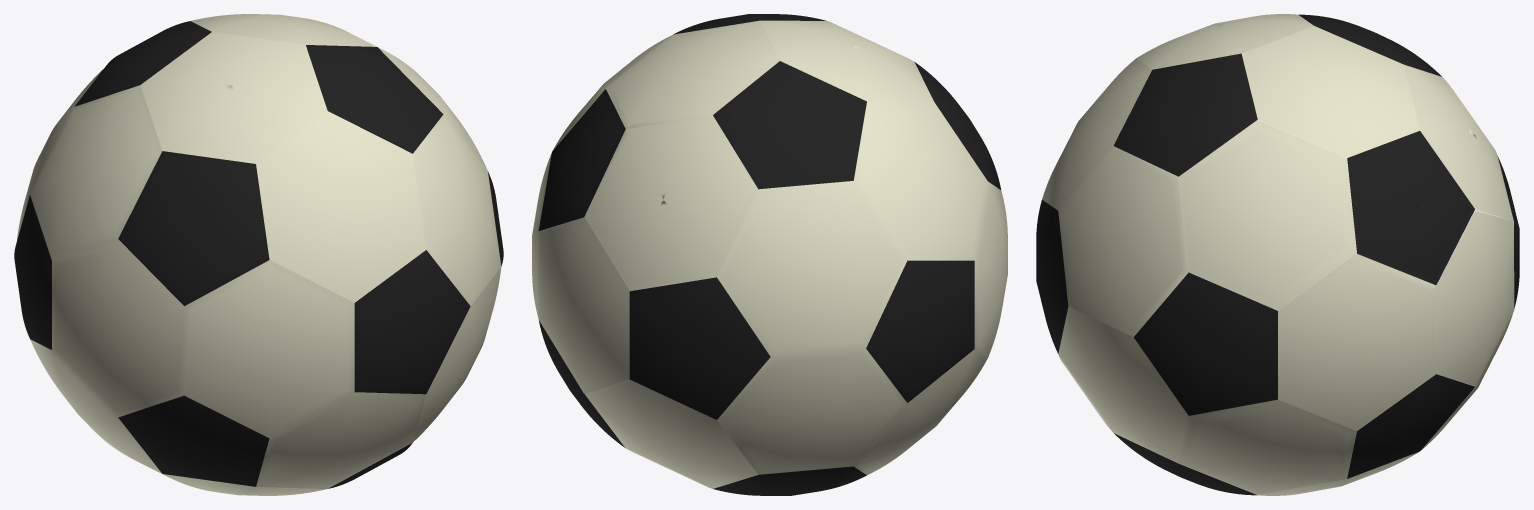
File: MyBall.fbx
The picture shows the model from 3 angles, left to right: view 1: azimuth 30°, elevation 25°; view 2: azimuth 150°, elevation 25°; view 3: azimuth 270°, elevation 25°; orthographic projection.
Visible parts, largest first — view 1: Ball1; view 2: Ball1; view 3: Ball1.
Part boxes in pixels (x1=…): Ball1: x1=14, y1=14, x2=503, y2=495; Ball1: x1=532, y1=14, x2=1007, y2=495; Ball1: x1=1036, y1=14, x2=1519, y2=495.
Bounding box in the file's own units: 163 × 162 × 165.
